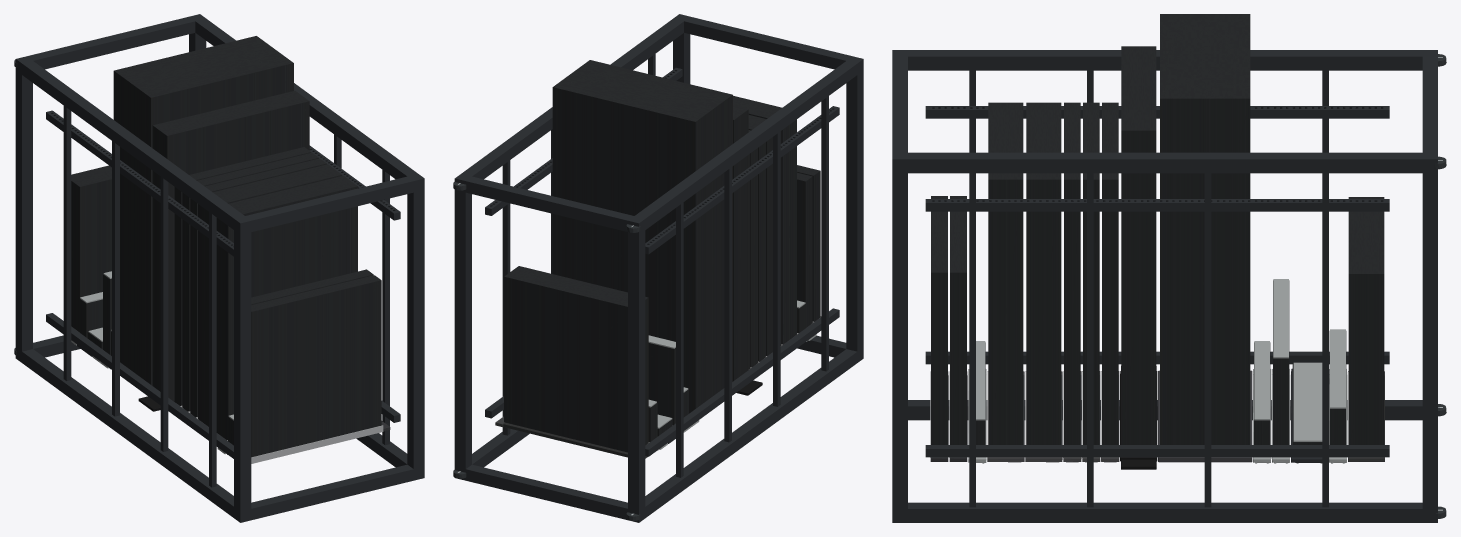
The model's file is dell-row-24u.glb.
3 renders of one model, left to right at view 1: azimuth 30°, elevation 25°; view 2: azimuth 150°, elevation 25°; view 3: azimuth 270°, elevation 25°, orthographic. The views are drawn at different scales.
Visible parts, largest first — view 1: RACK_FRAME__nexus_black, S5248F_ON_A__steel_textured, ME4084__steel_textured, R760_A__steel_textured, R760XD2__steel_textured, SIDE_BRACES__nexus_black, MOUNTING_RAILS__nexus_black, SMT1500RM2U__steel_textured, R760_B__steel_textured, R660_B__steel_textured, R660_C__steel_textured, R660_A__steel_textured (+4 smaller); view 2: RACK_FRAME__nexus_black, ME4084__steel_textured, SMT1500RM2U__steel_textured, SIDE_BRACES__nexus_black, MOUNTING_RAILS__nexus_black, R760_A__steel_textured, R760XD2__steel_textured, S5248F_ON_B__steel_textured, R760_B__steel_textured, CONSOLE_SERVER__steel_textured, R660_A__steel_textured, R660_B__steel_textured (+3 smaller); view 3: RACK_FRAME__nexus_black, ME4084__steel_textured, MOUNTING_RAILS__nexus_black, R760XD2__steel_textured, R760_A__steel_textured, R760_B__steel_textured, SIDE_BRACES__nexus_black, SMT1500RM2U__steel_textured, R660_A__steel_textured, R660_C__steel_textured, S5248F_ON_A__steel_textured, S5248F_ON_B__steel_textured (+10 smaller).
Boxes of the visible parts, left/top/right/bottom form: RACK_FRAME__nexus_black: left=15, top=14, right=424, bottom=522; S5248F_ON_A__steel_textured: left=251, top=275, right=381, bottom=457; ME4084__steel_textured: left=113, top=36, right=293, bottom=385; R760_A__steel_textured: left=216, top=175, right=357, bottom=440; R760XD2__steel_textured: left=152, top=90, right=309, bottom=400; SIDE_BRACES__nexus_black: left=63, top=106, right=389, bottom=487; MOUNTING_RAILS__nexus_black: left=46, top=110, right=400, bottom=458; SMT1500RM2U__steel_textured: left=71, top=165, right=111, bottom=331; R760_B__steel_textured: left=198, top=164, right=342, bottom=426; R660_B__steel_textured: left=182, top=152, right=318, bottom=411; R660_C__steel_textured: left=174, top=147, right=311, bottom=405; R660_A__steel_textured: left=190, top=158, right=326, bottom=417; RACK_FRAME__nexus_black: left=454, top=14, right=863, bottom=522; ME4084__steel_textured: left=552, top=60, right=732, bottom=413; SMT1500RM2U__steel_textured: left=504, top=266, right=648, bottom=452; SIDE_BRACES__nexus_black: left=502, top=54, right=828, bottom=477; MOUNTING_RAILS__nexus_black: left=485, top=67, right=839, bottom=456; R760_A__steel_textured: left=733, top=95, right=796, bottom=344; R760XD2__steel_textured: left=733, top=105, right=748, bottom=381; S5248F_ON_B__steel_textured: left=797, top=172, right=812, bottom=327; R760_B__steel_textured: left=748, top=115, right=781, bottom=356; CONSOLE_SERVER__steel_textured: left=648, top=343, right=675, bottom=425; R660_A__steel_textured: left=748, top=130, right=765, bottom=361; R660_B__steel_textured: left=750, top=148, right=757, bottom=367; RACK_FRAME__nexus_black: left=892, top=50, right=1437, bottom=522; ME4084__steel_textured: left=1160, top=14, right=1250, bottom=444; MOUNTING_RAILS__nexus_black: left=925, top=106, right=1389, bottom=457; R760XD2__steel_textured: left=1121, top=46, right=1156, bottom=444; R760_A__steel_textured: left=988, top=102, right=1023, bottom=444; R760_B__steel_textured: left=1026, top=102, right=1061, bottom=444; SIDE_BRACES__nexus_black: left=969, top=70, right=1328, bottom=507; SMT1500RM2U__steel_textured: left=1348, top=197, right=1384, bottom=444; R660_A__steel_textured: left=1064, top=102, right=1080, bottom=444; R660_C__steel_textured: left=1102, top=102, right=1118, bottom=444; S5248F_ON_A__steel_textured: left=931, top=196, right=947, bottom=444; S5248F_ON_B__steel_textured: left=950, top=196, right=966, bottom=444.
Size of the model in its own units: 0.609 by 1.07 by 1.3.
130 materials, 8 textured.
